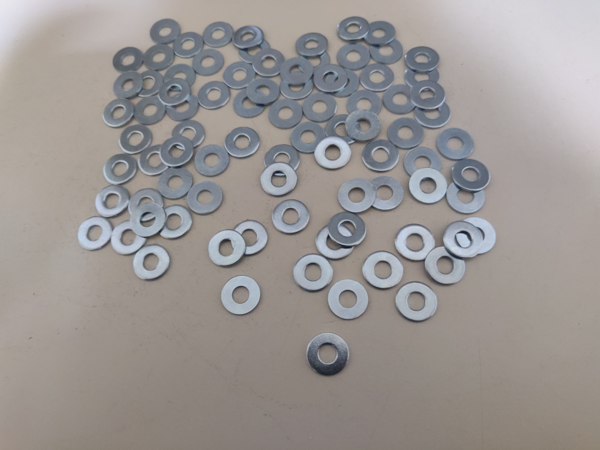circle: (307, 333, 349, 376), (220, 275, 262, 317), (328, 280, 369, 322), (424, 246, 466, 286), (396, 283, 437, 322), (362, 251, 404, 289), (315, 223, 356, 261), (456, 217, 496, 255), (396, 224, 435, 262), (367, 176, 405, 213), (294, 255, 333, 291), (446, 179, 485, 215), (271, 200, 311, 235), (208, 230, 245, 267), (231, 220, 268, 257), (133, 245, 171, 281), (410, 168, 448, 204), (261, 162, 298, 198), (443, 222, 480, 258), (339, 178, 376, 214), (314, 136, 352, 171), (328, 212, 366, 246), (452, 158, 490, 192), (404, 147, 442, 181), (361, 139, 399, 173), (437, 128, 475, 162), (131, 203, 166, 238), (77, 217, 113, 251), (129, 188, 165, 222), (156, 205, 193, 238), (265, 144, 300, 178), (187, 182, 223, 215), (324, 115, 360, 148), (414, 98, 450, 131), (96, 185, 130, 219), (291, 122, 327, 154), (268, 99, 304, 131), (404, 62, 442, 92), (112, 221, 145, 255), (388, 118, 424, 149), (409, 81, 446, 111), (323, 69, 360, 99), (195, 145, 229, 177), (158, 168, 192, 200), (171, 120, 205, 152), (104, 154, 139, 185), (225, 128, 261, 158), (119, 125, 154, 155), (302, 92, 337, 122), (346, 90, 382, 119), (139, 146, 172, 177), (102, 98, 135, 129), (346, 111, 380, 141), (232, 89, 266, 119), (280, 71, 315, 100), (313, 64, 348, 93), (383, 85, 418, 114), (245, 78, 281, 106), (158, 77, 191, 107), (223, 60, 256, 90), (160, 137, 194, 166), (251, 50, 285, 79), (238, 37, 273, 65), (360, 64, 395, 92), (134, 96, 166, 126), (279, 58, 314, 85), (113, 71, 145, 100), (131, 69, 164, 97), (192, 49, 225, 77), (337, 43, 370, 71), (298, 48, 331, 76), (198, 81, 231, 109), (168, 93, 199, 122), (112, 47, 145, 74), (149, 18, 182, 45), (370, 38, 403, 65), (164, 64, 196, 91), (337, 16, 370, 42), (405, 47, 439, 72), (364, 21, 397, 46), (296, 32, 329, 57), (143, 45, 174, 71), (173, 32, 204, 58), (202, 22, 233, 48), (233, 26, 265, 50)
